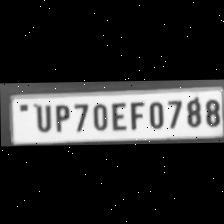0: (144, 96, 166, 128), (88, 99, 108, 129)
7: (68, 100, 88, 131), (164, 96, 182, 128)
8: (181, 94, 201, 127), (201, 95, 221, 126)
E: (108, 98, 127, 130)
F: (126, 98, 144, 129)
P: (50, 100, 70, 132)
U: (29, 100, 52, 132)
